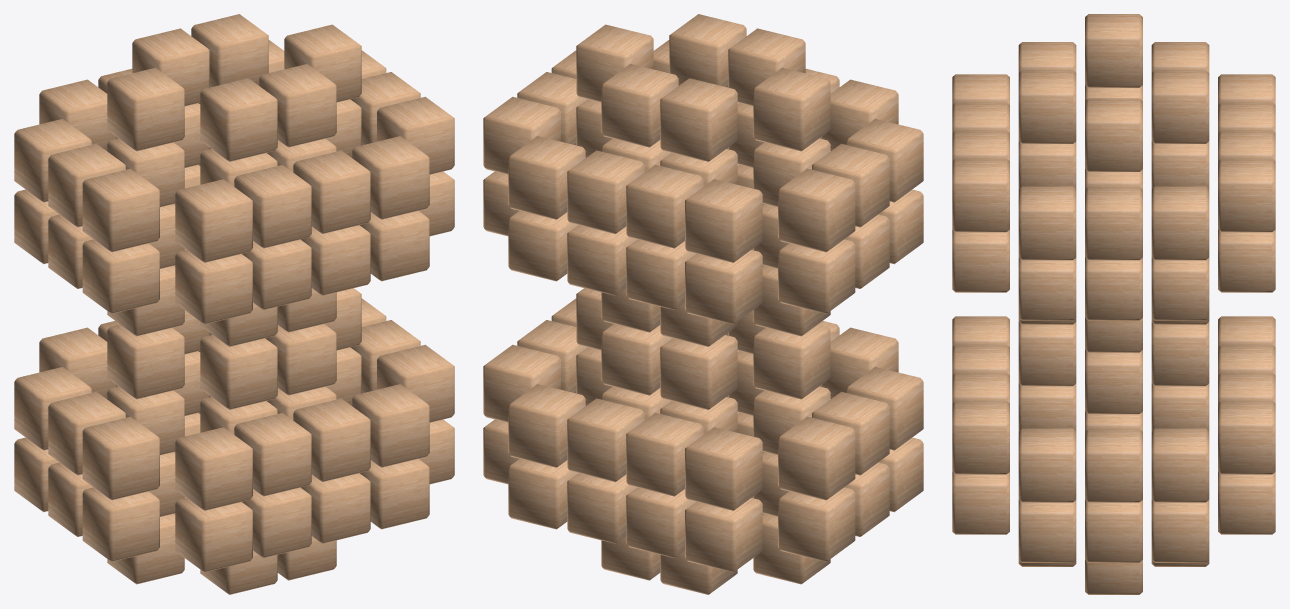
The model's file is level_86.fbx.
3 views of the same model, side by side, from view 1: azimuth 30°, elevation 25°; view 2: azimuth 150°, elevation 25°; view 3: azimuth 270°, elevation 25° (orthographic). The views are drawn at different scales.
Visible parts, largest first — view 1: Cube.070, Cube.149, Cube.145, Cube.063, Cube.155, Cube.159, Cube.090, Cube.083, Cube.121, Cube.046, Cube.039, Cube.098 (+53 smaller); view 2: Cube.024, Cube.188, Cube.205, Cube.080, Cube.159, Cube.190, Cube.090, Cube.025, Cube.184, Cube.014, Cube.073, Cube.201 (+53 smaller); view 3: Cube.109, Cube.044, Cube.170, Cube.195, Cube.152, Cube.189, Cube.110, Cube.117, Cube.120, Cube.171, Cube.172, Cube.214 (+38 smaller).
Boxes of the visible parts, left/top/right/bottom form: Cube.070: left=82, top=416, right=159, bottom=500; Cube.149: left=82, top=168, right=159, bottom=252; Cube.145: left=175, top=179, right=252, bottom=262; Cube.063: left=175, top=427, right=252, bottom=510; Cube.155: left=200, top=78, right=277, bottom=161; Cube.159: left=107, top=67, right=184, bottom=151; Cube.090: left=107, top=324, right=184, bottom=399; Cube.083: left=200, top=335, right=277, bottom=409; Cube.121: left=82, top=239, right=159, bottom=313; Cube.046: left=82, top=487, right=159, bottom=561; Cube.039: left=175, top=498, right=252, bottom=572; Cube.098: left=175, top=250, right=252, bottom=324; Cube.024: left=778, top=416, right=855, bottom=500; Cube.188: left=778, top=168, right=855, bottom=252; Cube.205: left=685, top=179, right=762, bottom=262; Cube.080: left=685, top=427, right=762, bottom=510; Cube.159: left=753, top=67, right=830, bottom=151; Cube.190: left=660, top=78, right=737, bottom=161; Cube.090: left=753, top=324, right=830, bottom=399; Cube.025: left=660, top=335, right=737, bottom=409; Cube.184: left=778, top=239, right=855, bottom=313; Cube.014: left=778, top=487, right=855, bottom=561; Cube.073: left=685, top=498, right=762, bottom=572; Cube.201: left=685, top=250, right=762, bottom=324; Cube.109: left=1018, top=428, right=1076, bottom=502; Cube.044: left=1151, top=428, right=1209, bottom=502; Cube.170: left=1018, top=186, right=1076, bottom=260; Cube.195: left=1151, top=186, right=1209, bottom=260; Cube.152: left=1018, top=70, right=1076, bottom=143; Cube.189: left=1151, top=70, right=1209, bottom=143; Cube.110: left=1085, top=428, right=1142, bottom=502; Cube.117: left=952, top=400, right=1009, bottom=474; Cube.120: left=1218, top=400, right=1275, bottom=474; Cube.171: left=1085, top=186, right=1142, bottom=260; Cube.172: left=952, top=158, right=1009, bottom=232; Cube.214: left=1218, top=158, right=1275, bottom=232.
Size of the model in its own units: 13.5 by 18.15 by 11.2.
